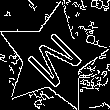M_SE: (18, 24, 86, 92)
